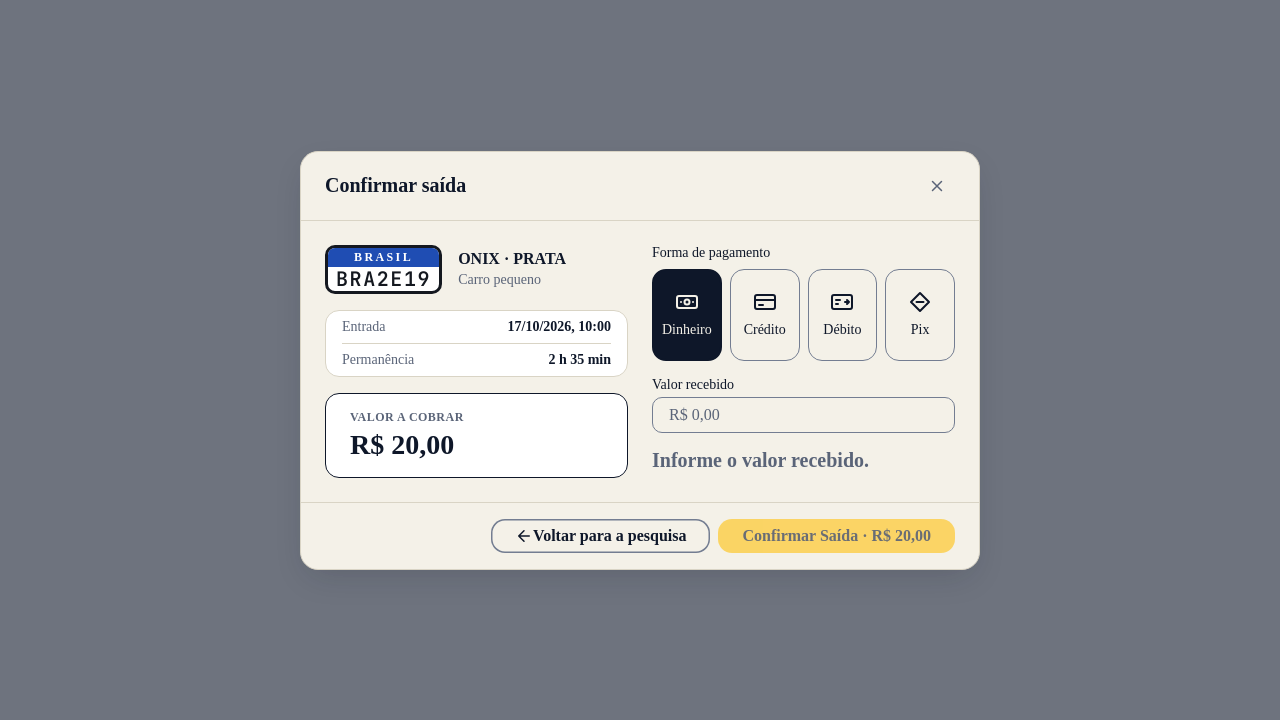
it: SaidaVeiculoModal: fase de pagamento › erro de registro mostra o motivo, mantém os dados e deixa voltar
The width and height of the screenshot is (1280, 720).
expect the text "ONIX · PRATA" is shown: met, box [458,250,566,268]
Type "50" into the field labelled "Valor recebido". click: [804, 414]
box: [652,396,955,432]
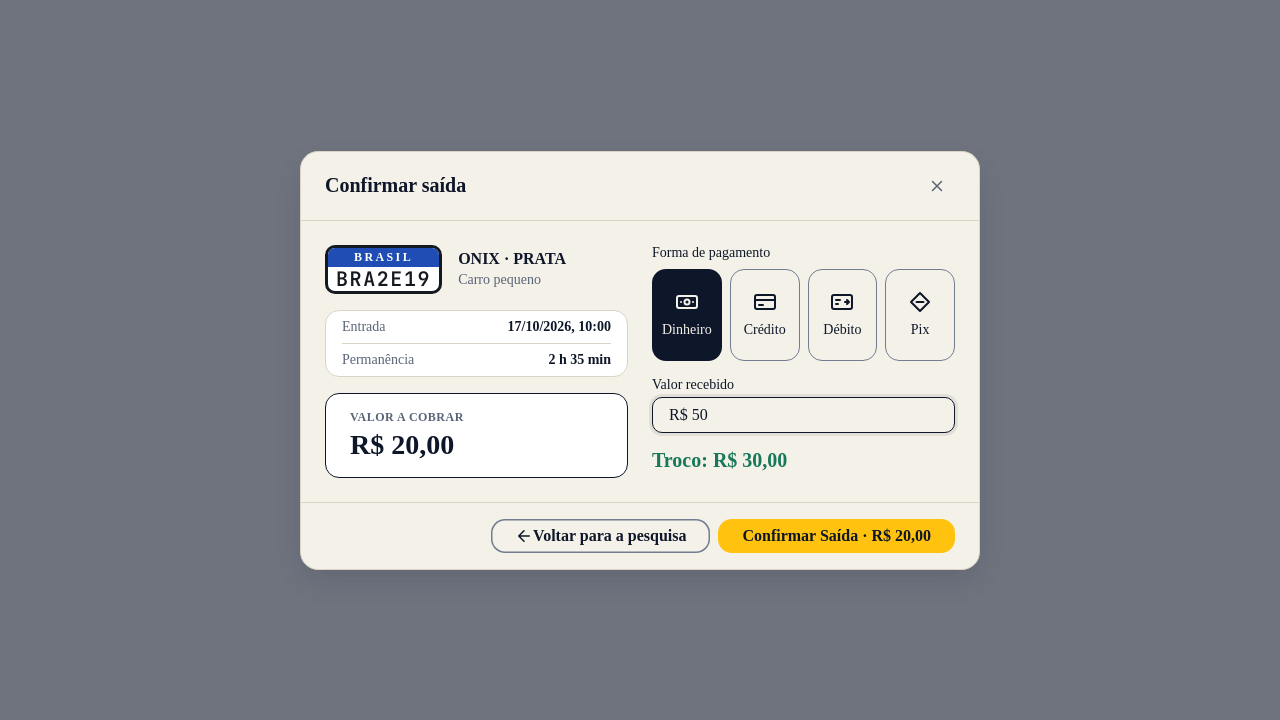
Click the button "Confirmar Saída · R$ 20,00". click: [837, 536]
box: [718,518,955,552]
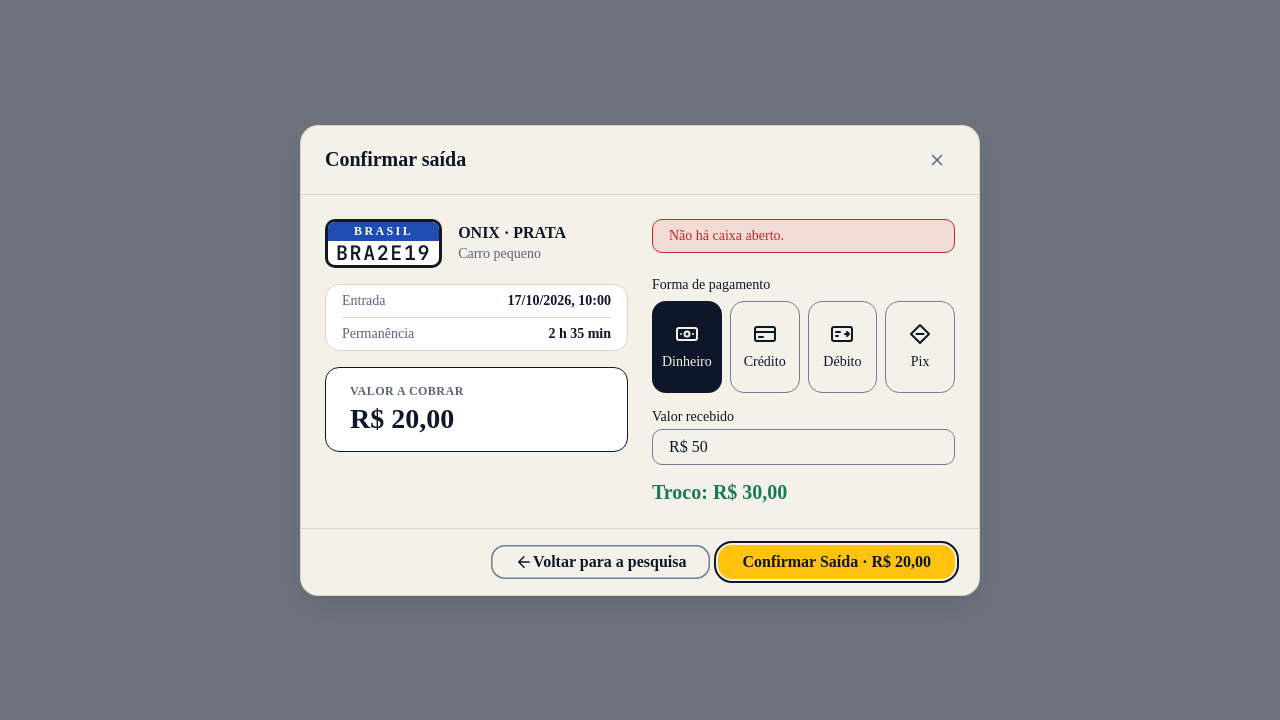
expect the text "ONIX · PRATA" is shown: met, box [458,224,566,242]
expect the field labelled "Valor recebido" holds "R$ 50": met, box [652,428,955,464]
expect the text "Não há caixa aberto." is shown: met, box [652,218,955,252]
